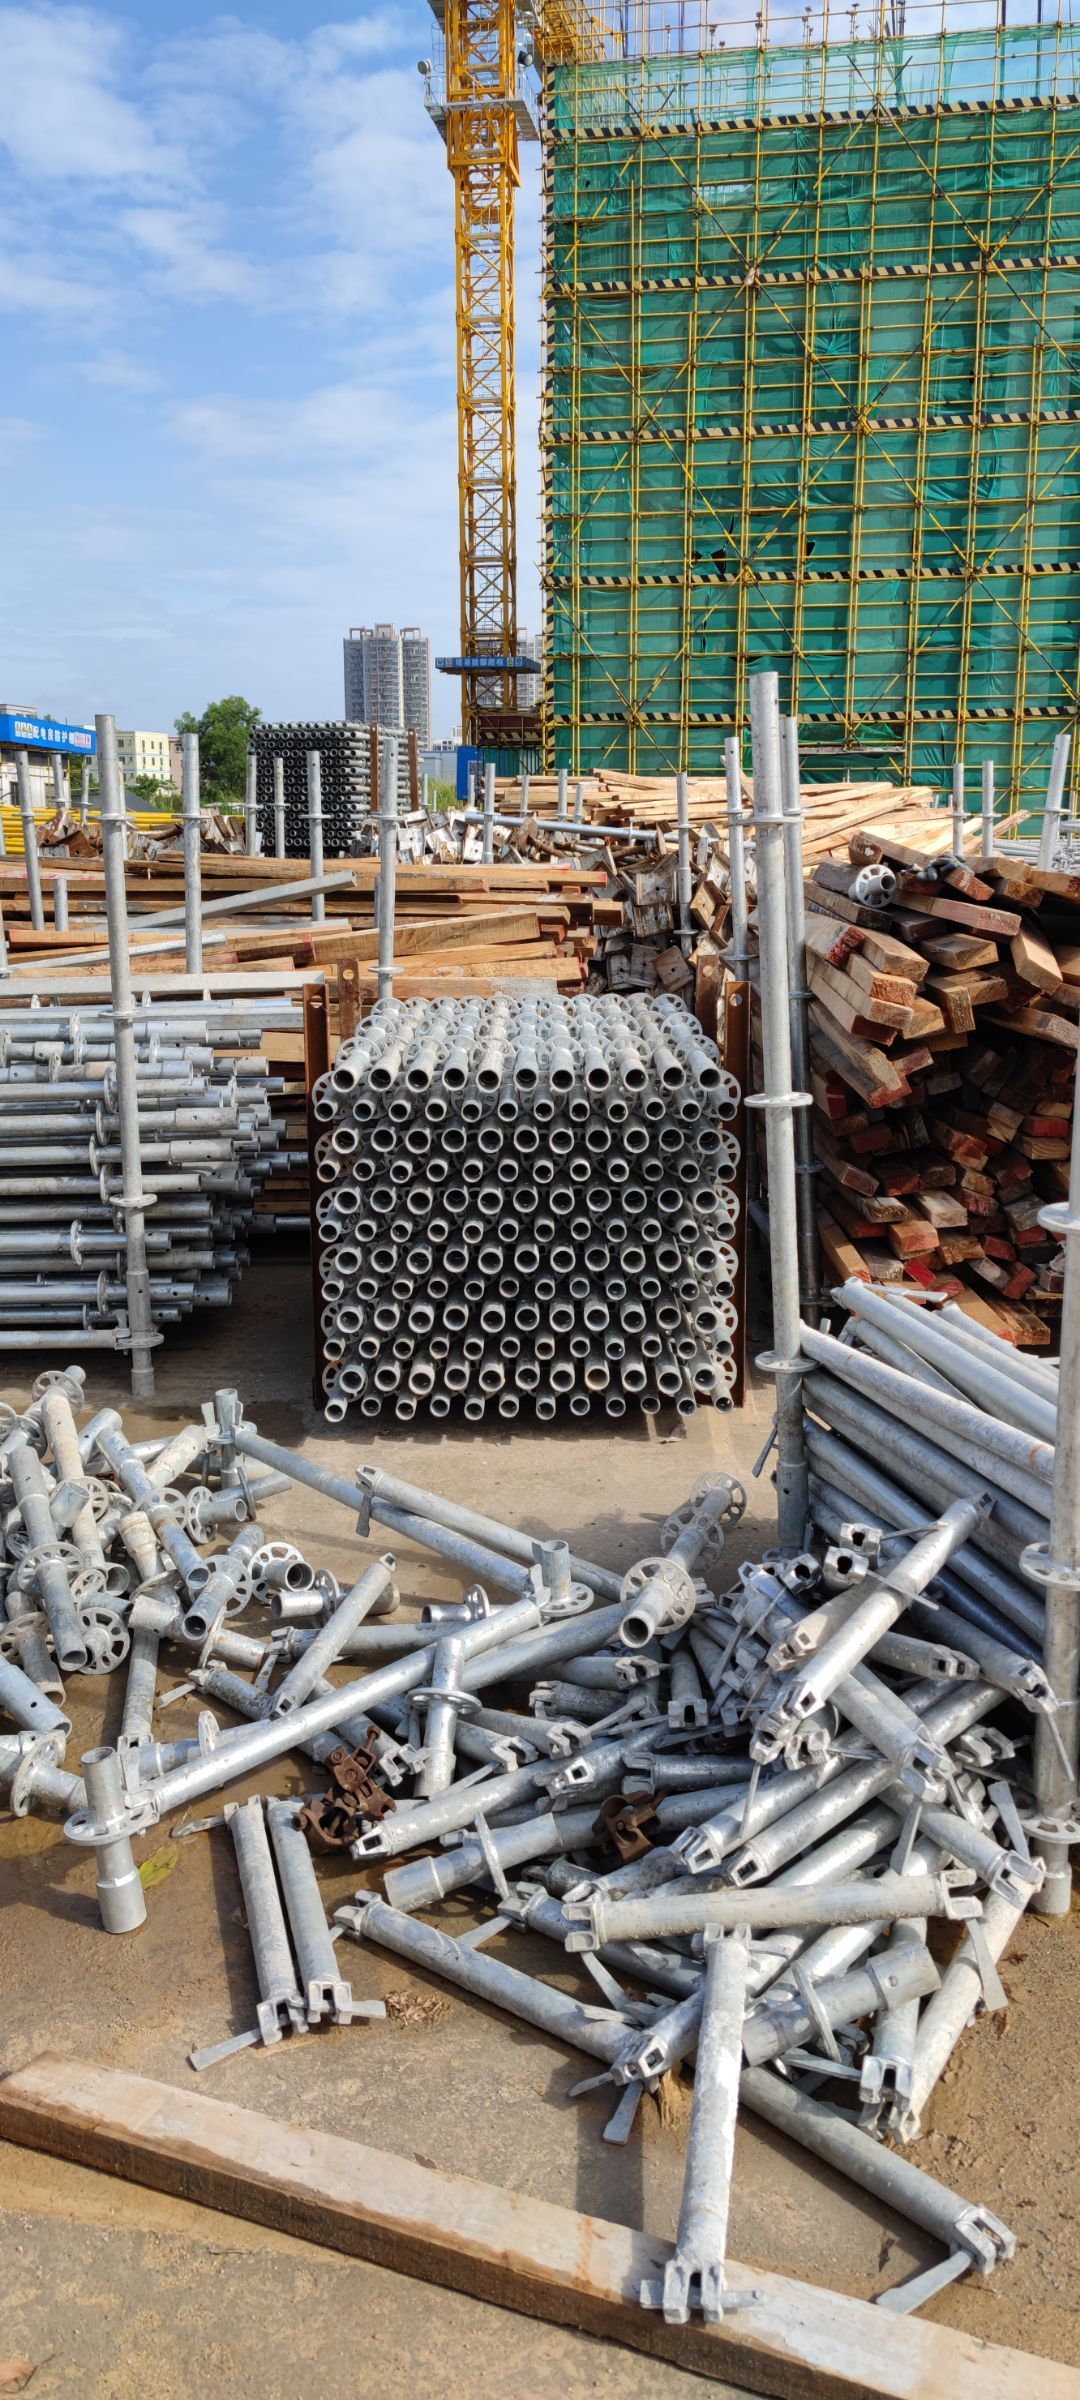scaffold: (277, 938, 795, 1428), (3, 897, 300, 1420)
wood: (753, 846, 1080, 1362)
